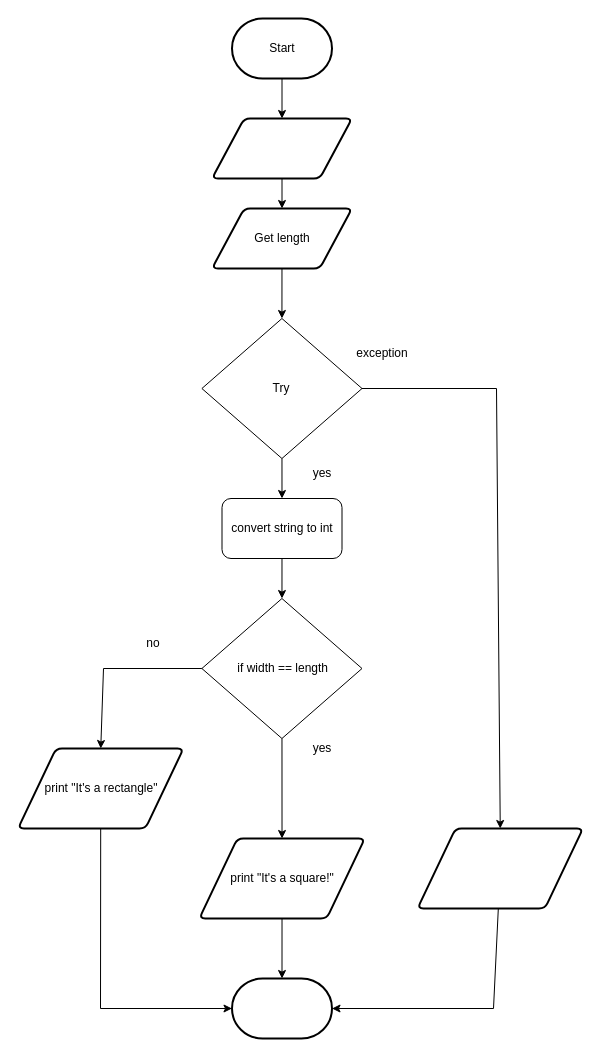
The diagram is 601 pixels wide and 1056 high, and some of its shapes have lost their labels. Each missing label, with the centre of its shape:
"Get width" belongs at (x=281, y=148).
"Invalid Input" belongs at (x=500, y=868).
"stop" belongs at (x=281, y=1008).
